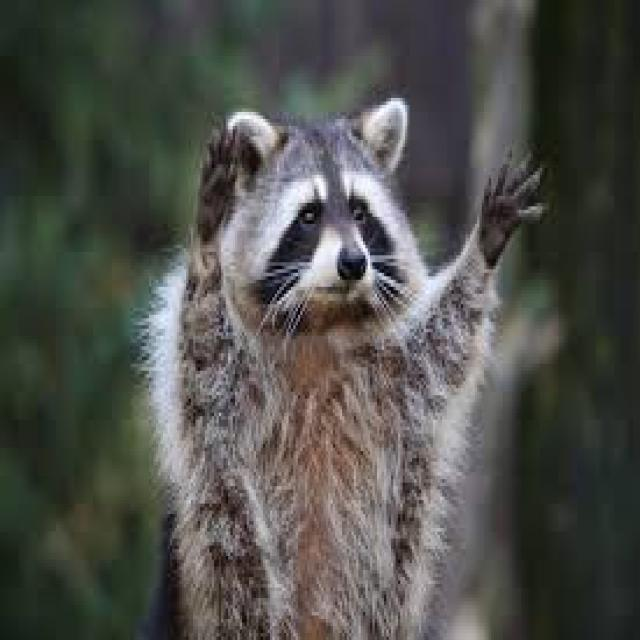Animal: (130, 73, 505, 640)
